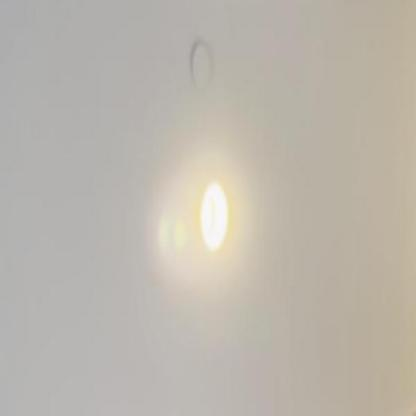light_on: (195, 157, 238, 272)
